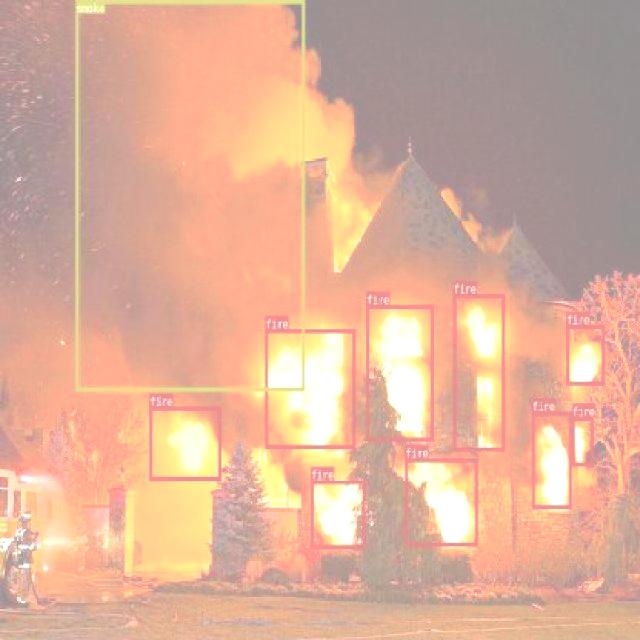fire: (266, 328, 354, 448), (365, 304, 433, 440), (453, 294, 504, 450), (404, 458, 478, 546), (149, 406, 220, 480), (310, 480, 366, 548), (532, 410, 570, 508), (565, 324, 604, 386), (572, 416, 594, 466)
smoke: (76, 0, 304, 391)
